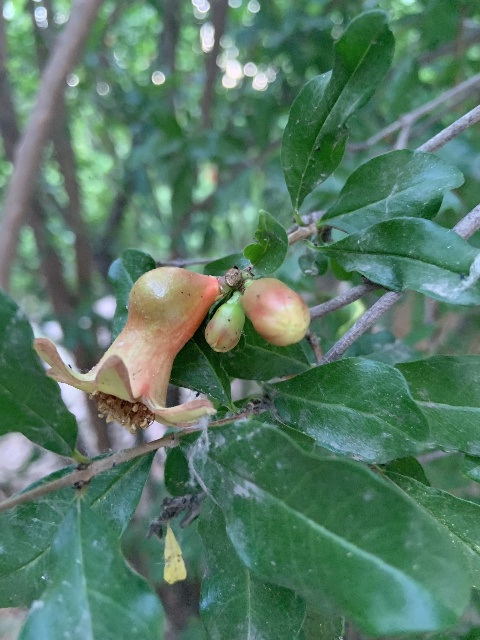bud: (241, 278, 309, 347), (205, 300, 243, 353)
early-fruit: (31, 265, 223, 432)
